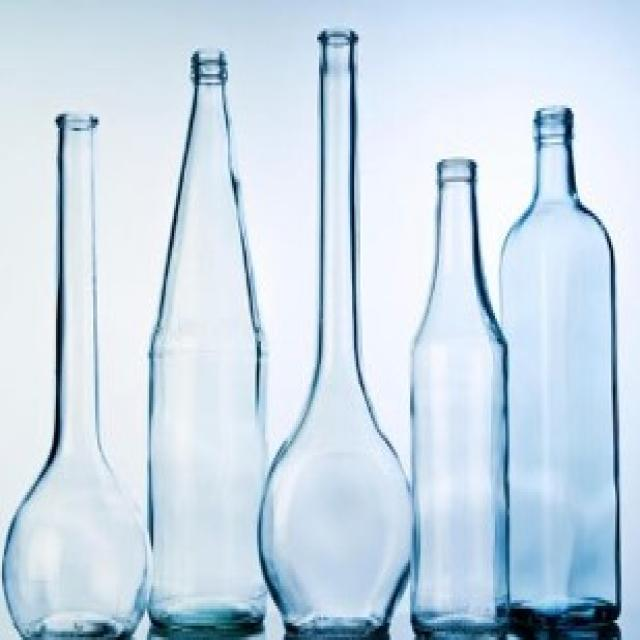electronic: (258, 24, 420, 640), (1, 109, 152, 640), (142, 48, 264, 640), (498, 106, 623, 640), (408, 159, 511, 640)
